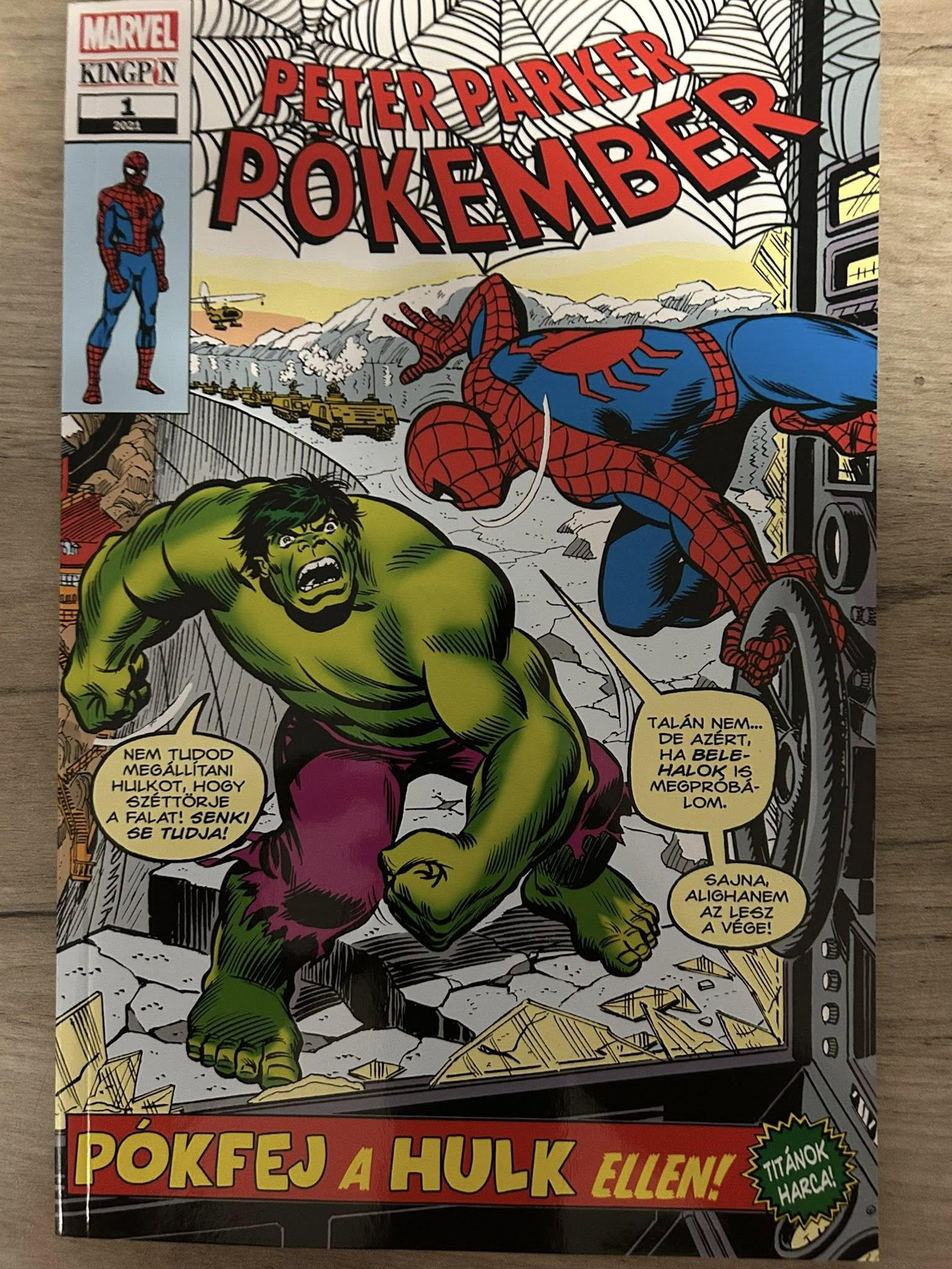comic: (55, 0, 886, 1260)
